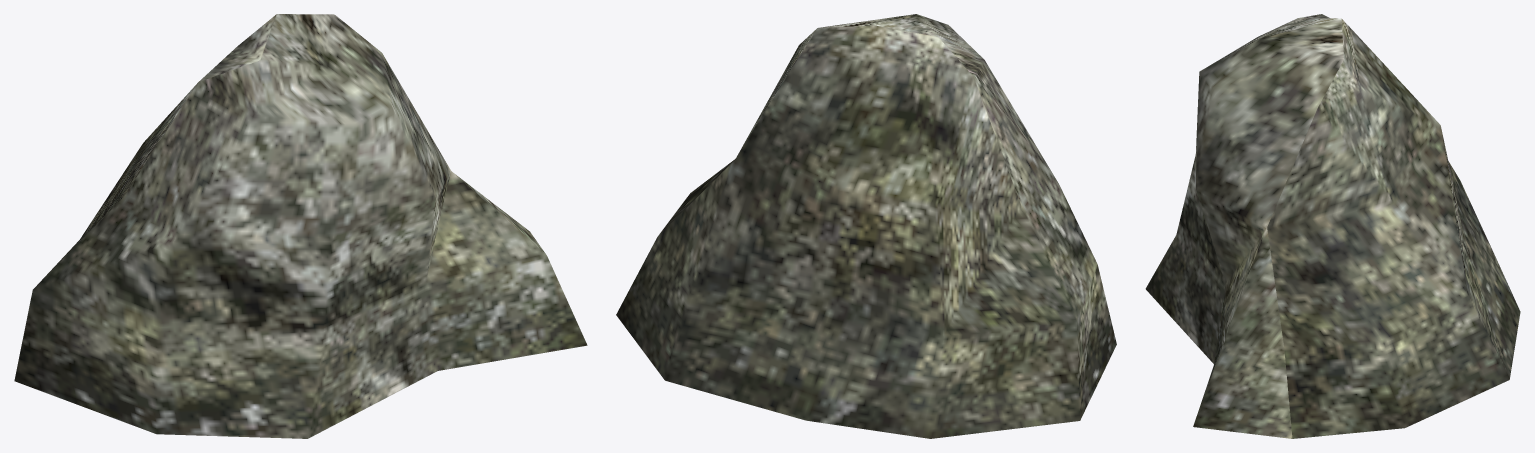
The model's file is general_obj_stone11.fbx.
3 views of the same model, side by side, from view 1: azimuth 30°, elevation 25°; view 2: azimuth 150°, elevation 25°; view 3: azimuth 270°, elevation 25° (orthographic). The views are drawn at different scales.
Visible parts, largest first — view 1: Sphere01; view 2: Sphere01; view 3: Sphere01.
Boxes of the visible parts, <box> form: Sphere01: <box>14,14,587,438</box>; Sphere01: <box>616,14,1116,438</box>; Sphere01: <box>1145,14,1520,438</box>.
Bounding box in the file's own units: 2.28 × 1.45 × 1.62.
